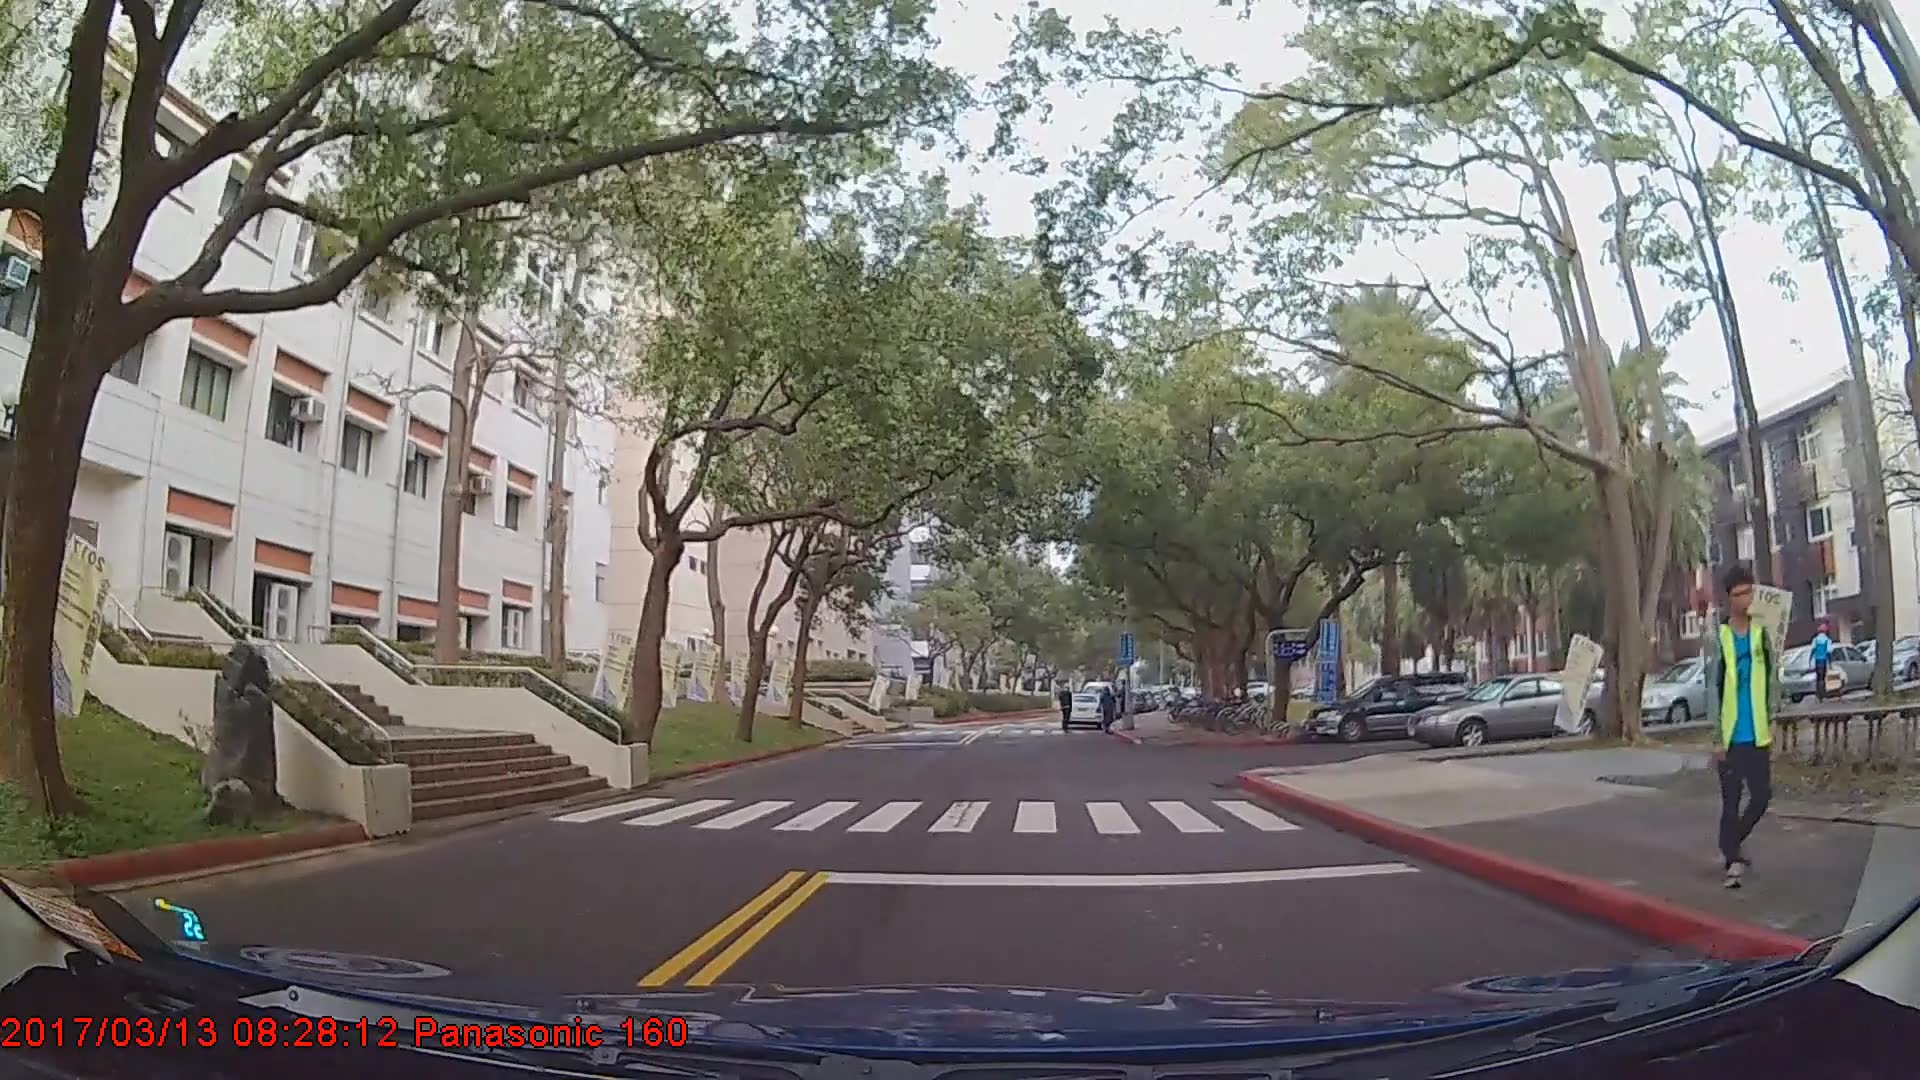pedestrian: (1701, 565, 1781, 888), (1802, 615, 1837, 707), (1099, 685, 1119, 735), (1056, 684, 1076, 735)
vehicle: (1407, 669, 1615, 747), (1305, 668, 1475, 739), (1629, 653, 1777, 724), (1783, 640, 1876, 697), (1059, 690, 1105, 728)
